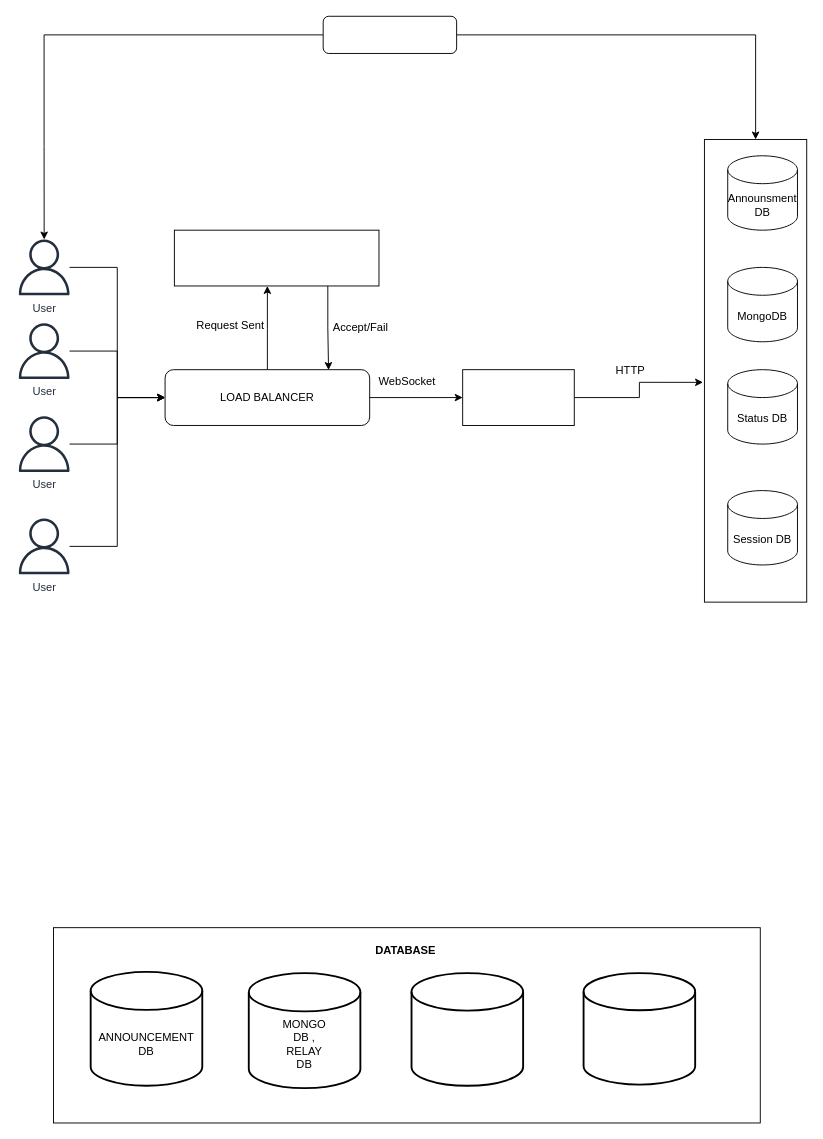
The diagram is 823 pixels wide and 1139 high, and some of its shapes have lost their labels. The centre of each missing label's shape, as x and y in pixels:
"Chat/Call Service" belongs at pixel 518 397.
"Notification Server" belongs at pixel 389 34.
"User Registration/Authentication Service" belongs at pixel 276 257.
